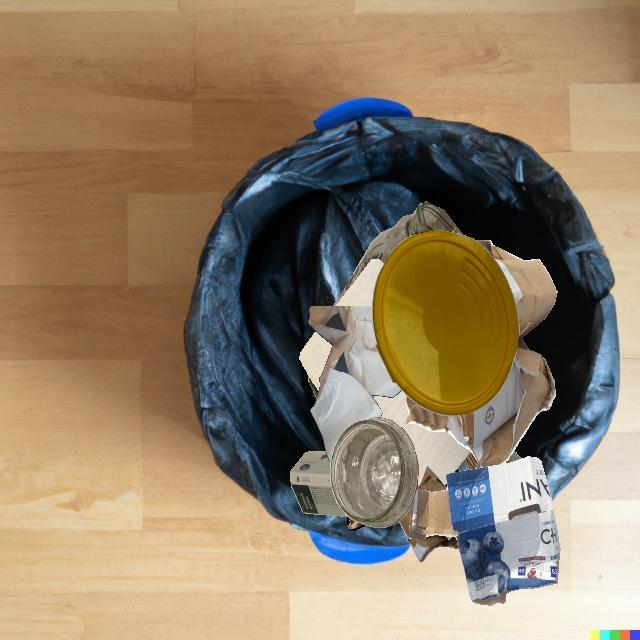cardboard: (406, 240, 557, 468), (408, 456, 560, 606), (325, 449, 399, 522), (290, 451, 348, 517), (399, 506, 458, 562), (417, 466, 447, 492), (457, 451, 482, 471), (502, 450, 522, 464)
glass: (330, 417, 419, 528), (312, 260, 371, 399), (371, 202, 463, 264)
paper: (308, 306, 402, 463), (373, 390, 471, 486), (320, 306, 394, 397), (336, 259, 384, 306), (300, 332, 332, 391)
plastic: (372, 230, 519, 416)
